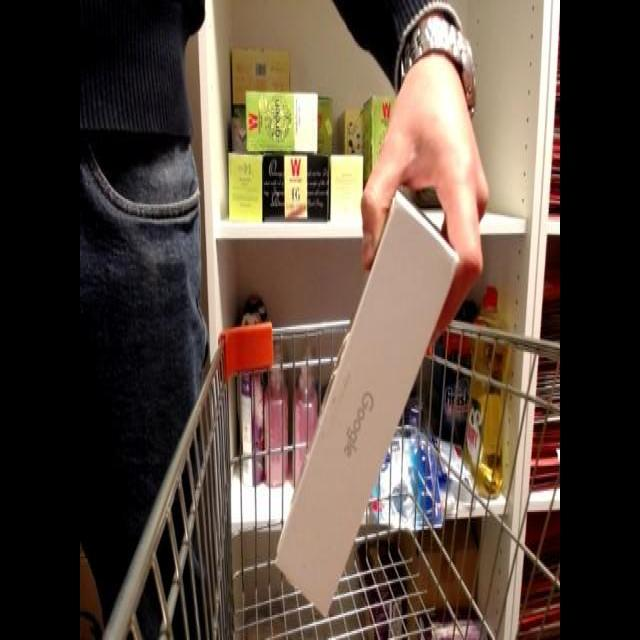Pixel 4: (269, 171, 492, 625)
